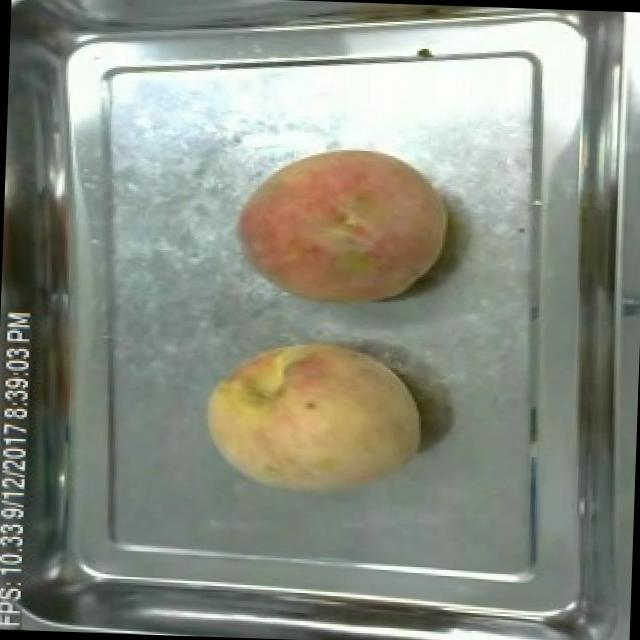Fruit: (200, 326, 432, 506), (232, 133, 456, 315)
